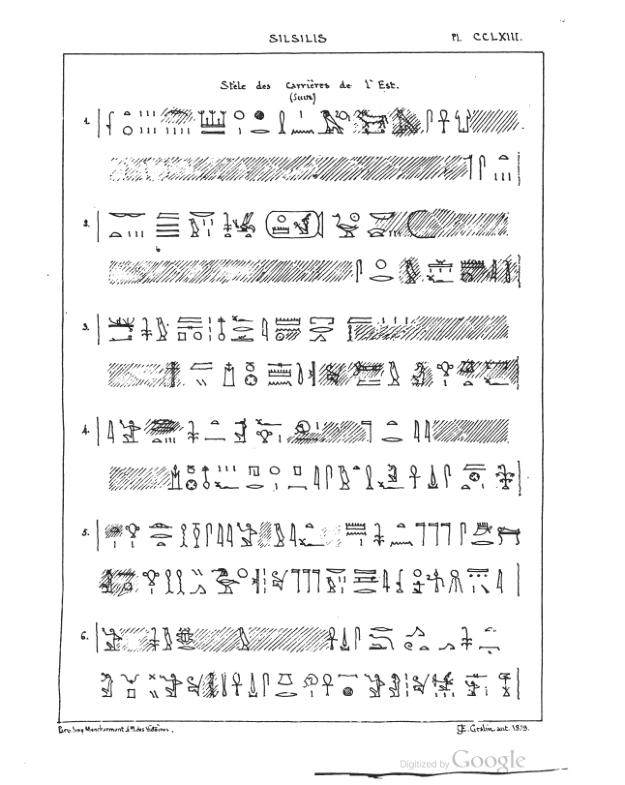circle: (262, 207, 328, 245)
